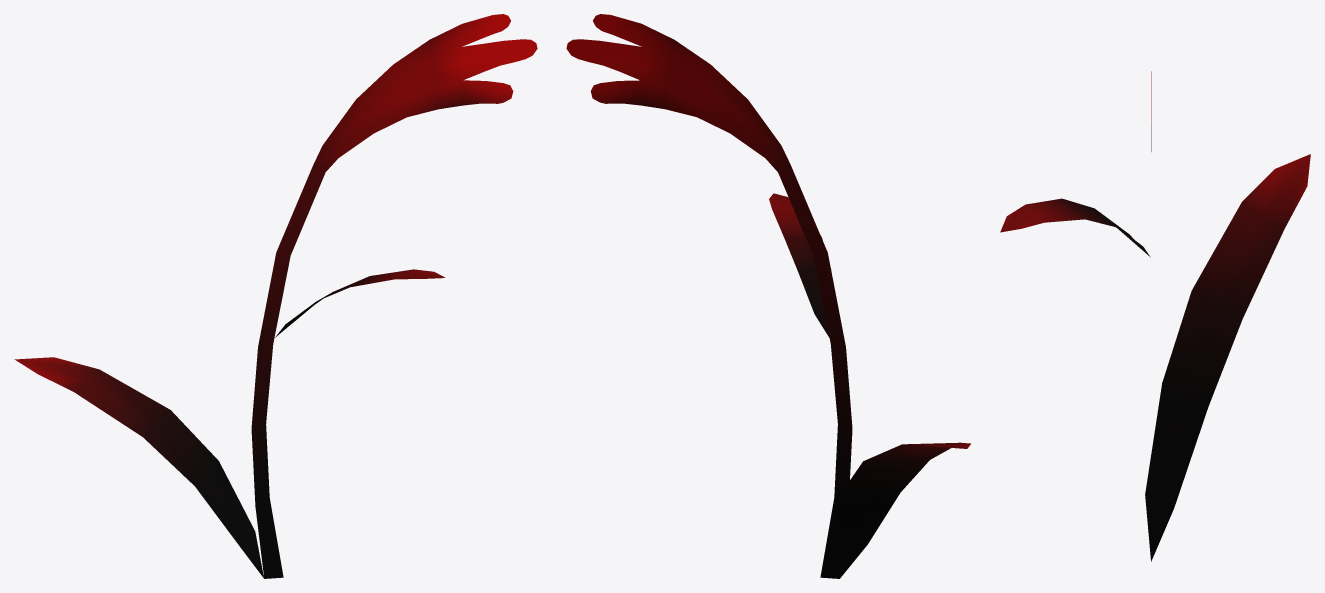
Rendered from SM_WildGrass_02_LOD0.fbx.
3 views of the same model, side by side, from view 1: azimuth 30°, elevation 25°; view 2: azimuth 150°, elevation 25°; view 3: azimuth 270°, elevation 25° (orthographic). The views are drawn at different scales.
Visible parts, largest first — view 1: SM_WildGrass_02_LOD0; view 2: SM_WildGrass_02_LOD0; view 3: SM_WildGrass_02_LOD0.
Part boxes in pixels (x1=…): SM_WildGrass_02_LOD0: x1=14, y1=14, x2=537, y2=578; SM_WildGrass_02_LOD0: x1=566, y1=14, x2=970, y2=578; SM_WildGrass_02_LOD0: x1=1000, y1=71, x2=1310, y2=561.
Bounding box in the file's own units: 174 × 77.5 × 184.
